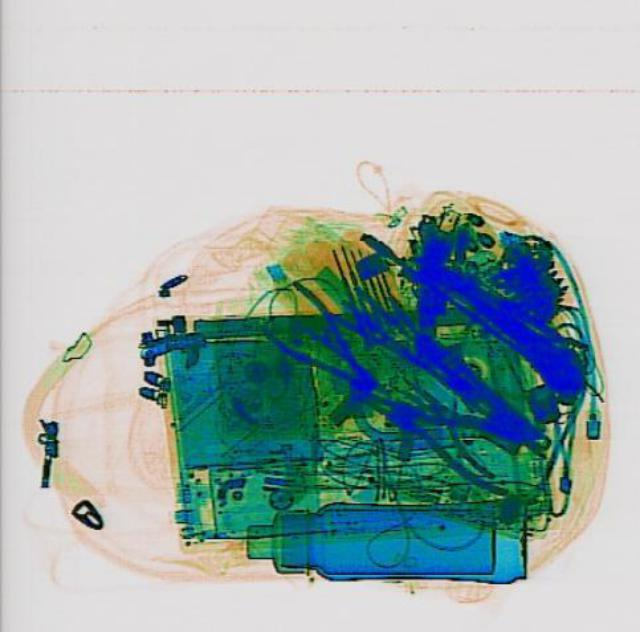Pliers: (342, 364, 542, 499), (245, 276, 388, 406)
